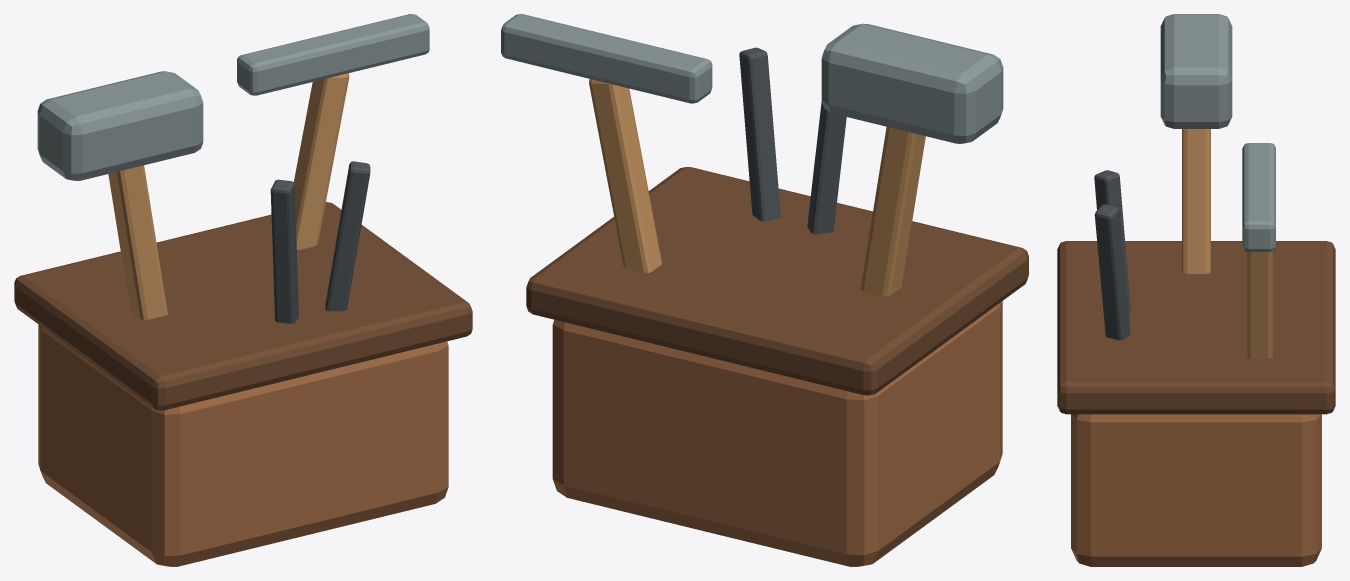
File: economy_cargo_tools_v01.glb
The picture shows the model from 3 angles, left to right: view 1: azimuth 30°, elevation 25°; view 2: azimuth 150°, elevation 25°; view 3: azimuth 270°, elevation 25°; orthographic projection. The views are drawn at different scales.
Visible parts, largest first — view 1: GEO_ToolBasket, GEO_ToolBasketRim, GEO_HammerHead, GEO_PickHead, GEO_PickHandle, GEO_HammerHandle, GEO_Tongs_L, GEO_Tongs_R; view 2: GEO_ToolBasket, GEO_ToolBasketRim, GEO_HammerHead, GEO_PickHead, GEO_PickHandle, GEO_HammerHandle, GEO_Tongs_R, GEO_Tongs_L; view 3: GEO_ToolBasketRim, GEO_ToolBasket, GEO_HammerHead, GEO_HammerHandle, GEO_PickHead, GEO_Tongs_R, GEO_PickHandle, GEO_Tongs_L.
Part boxes in pixels (left/top/right/bottom): GEO_ToolBasket: left=38, top=324, right=448, bottom=566; GEO_ToolBasketRim: left=14, top=202, right=472, bottom=410; GEO_HammerHead: left=37, top=71, right=203, bottom=180; GEO_PickHead: left=237, top=14, right=429, bottom=95; GEO_PickHandle: left=294, top=73, right=349, bottom=250; GEO_HammerHandle: left=108, top=165, right=167, bottom=319; GEO_Tongs_L: left=270, top=179, right=298, bottom=323; GEO_Tongs_R: left=325, top=161, right=370, bottom=311; GEO_ToolBasket: left=552, top=301, right=1002, bottom=566; GEO_ToolBasketRim: left=526, top=167, right=1028, bottom=395; GEO_HammerHead: left=821, top=23, right=1003, bottom=143; GEO_PickHead: left=501, top=14, right=712, bottom=103; GEO_PickHandle: left=589, top=79, right=661, bottom=272; GEO_HammerHandle: left=860, top=127, right=925, bottom=296; GEO_Tongs_R: left=739, top=47, right=780, bottom=221; GEO_Tongs_L: left=807, top=102, right=846, bottom=234; GEO_ToolBasketRim: left=1057, top=241, right=1335, bottom=414; GEO_ToolBasket: left=1071, top=414, right=1321, bottom=566; GEO_HammerHead: left=1160, top=14, right=1232, bottom=128; GEO_HammerHandle: left=1182, top=129, right=1210, bottom=273; GEO_PickHead: left=1242, top=143, right=1275, bottom=251; GEO_Tongs_R: left=1094, top=204, right=1130, bottom=340; GEO_PickHandle: left=1246, top=251, right=1272, bottom=358; GEO_Tongs_L: left=1094, top=170, right=1130, bottom=313.
Bounding box in the file's own units: 0.99 × 1 × 0.62.
